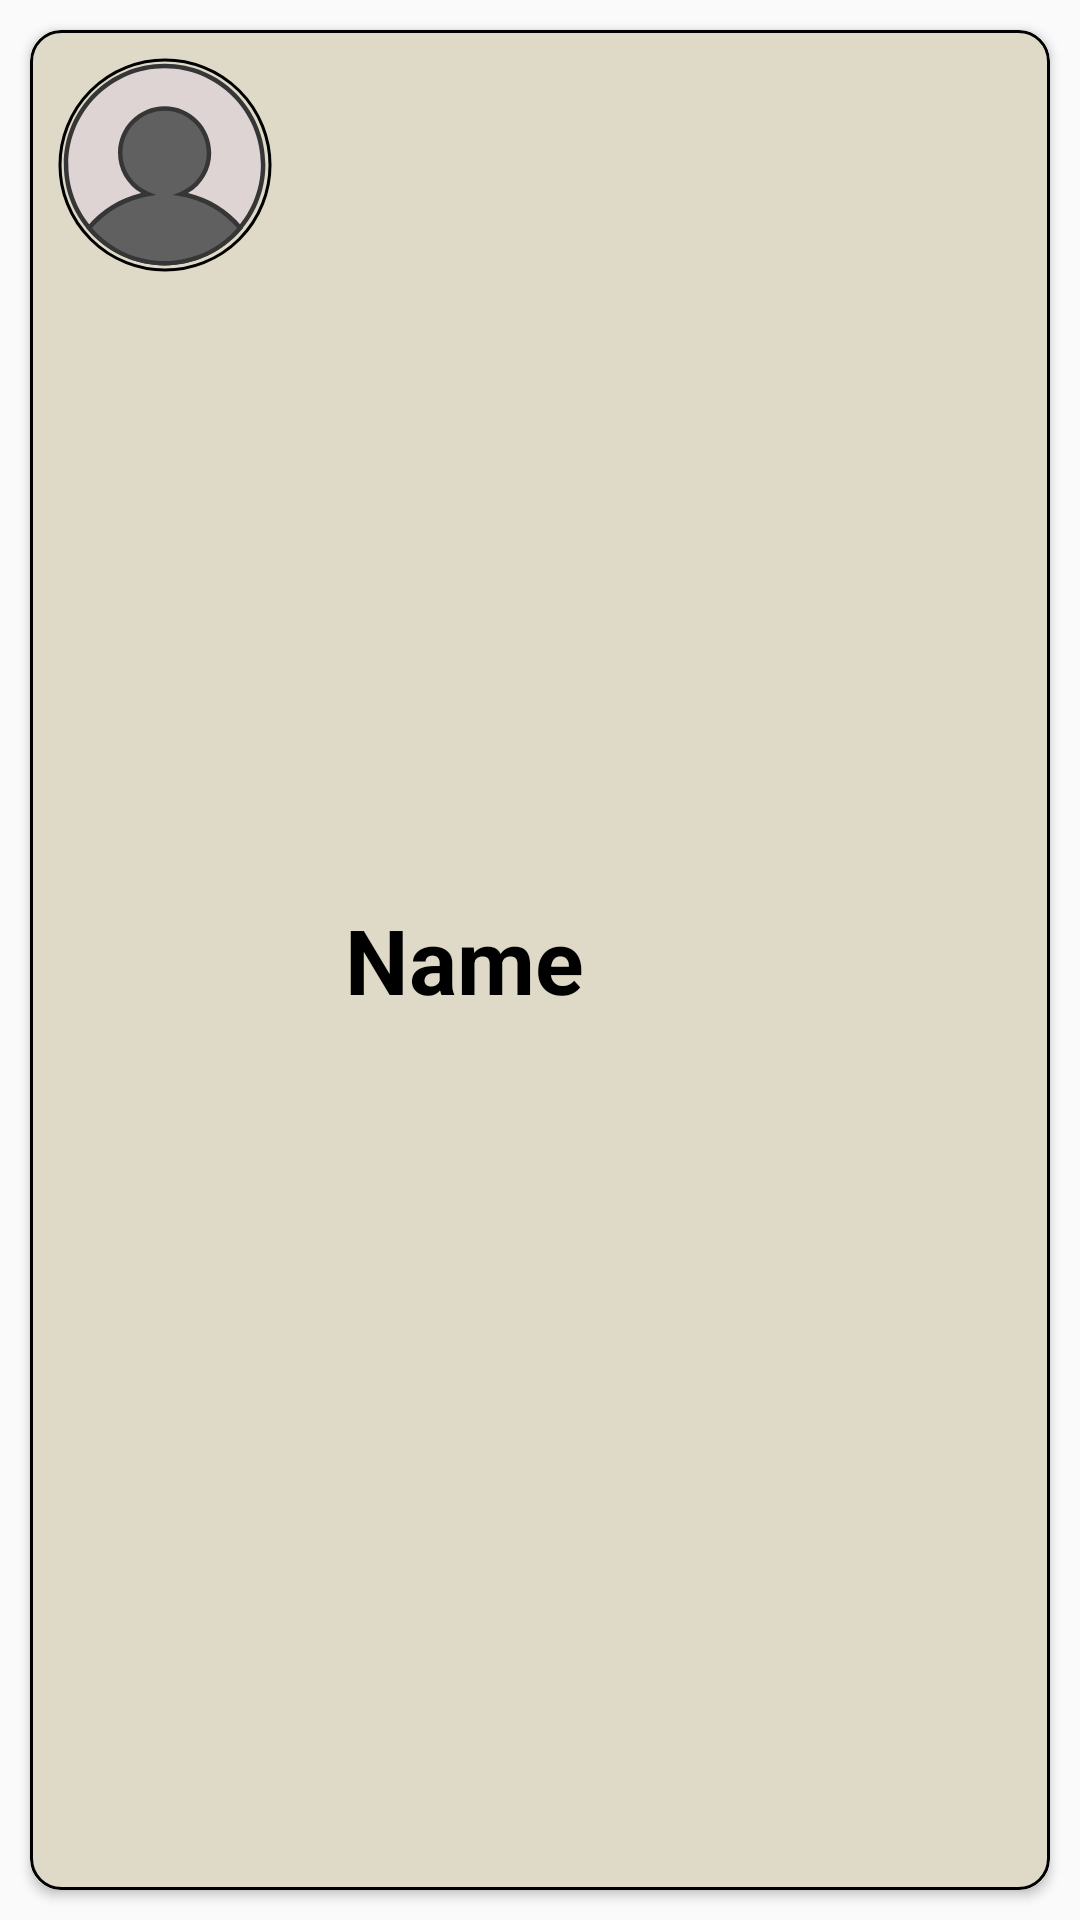

Icons on this 1080x1920 Android screen, each with the point to tap as (x=x, y=y):
user profile: (x=165, y=165)
